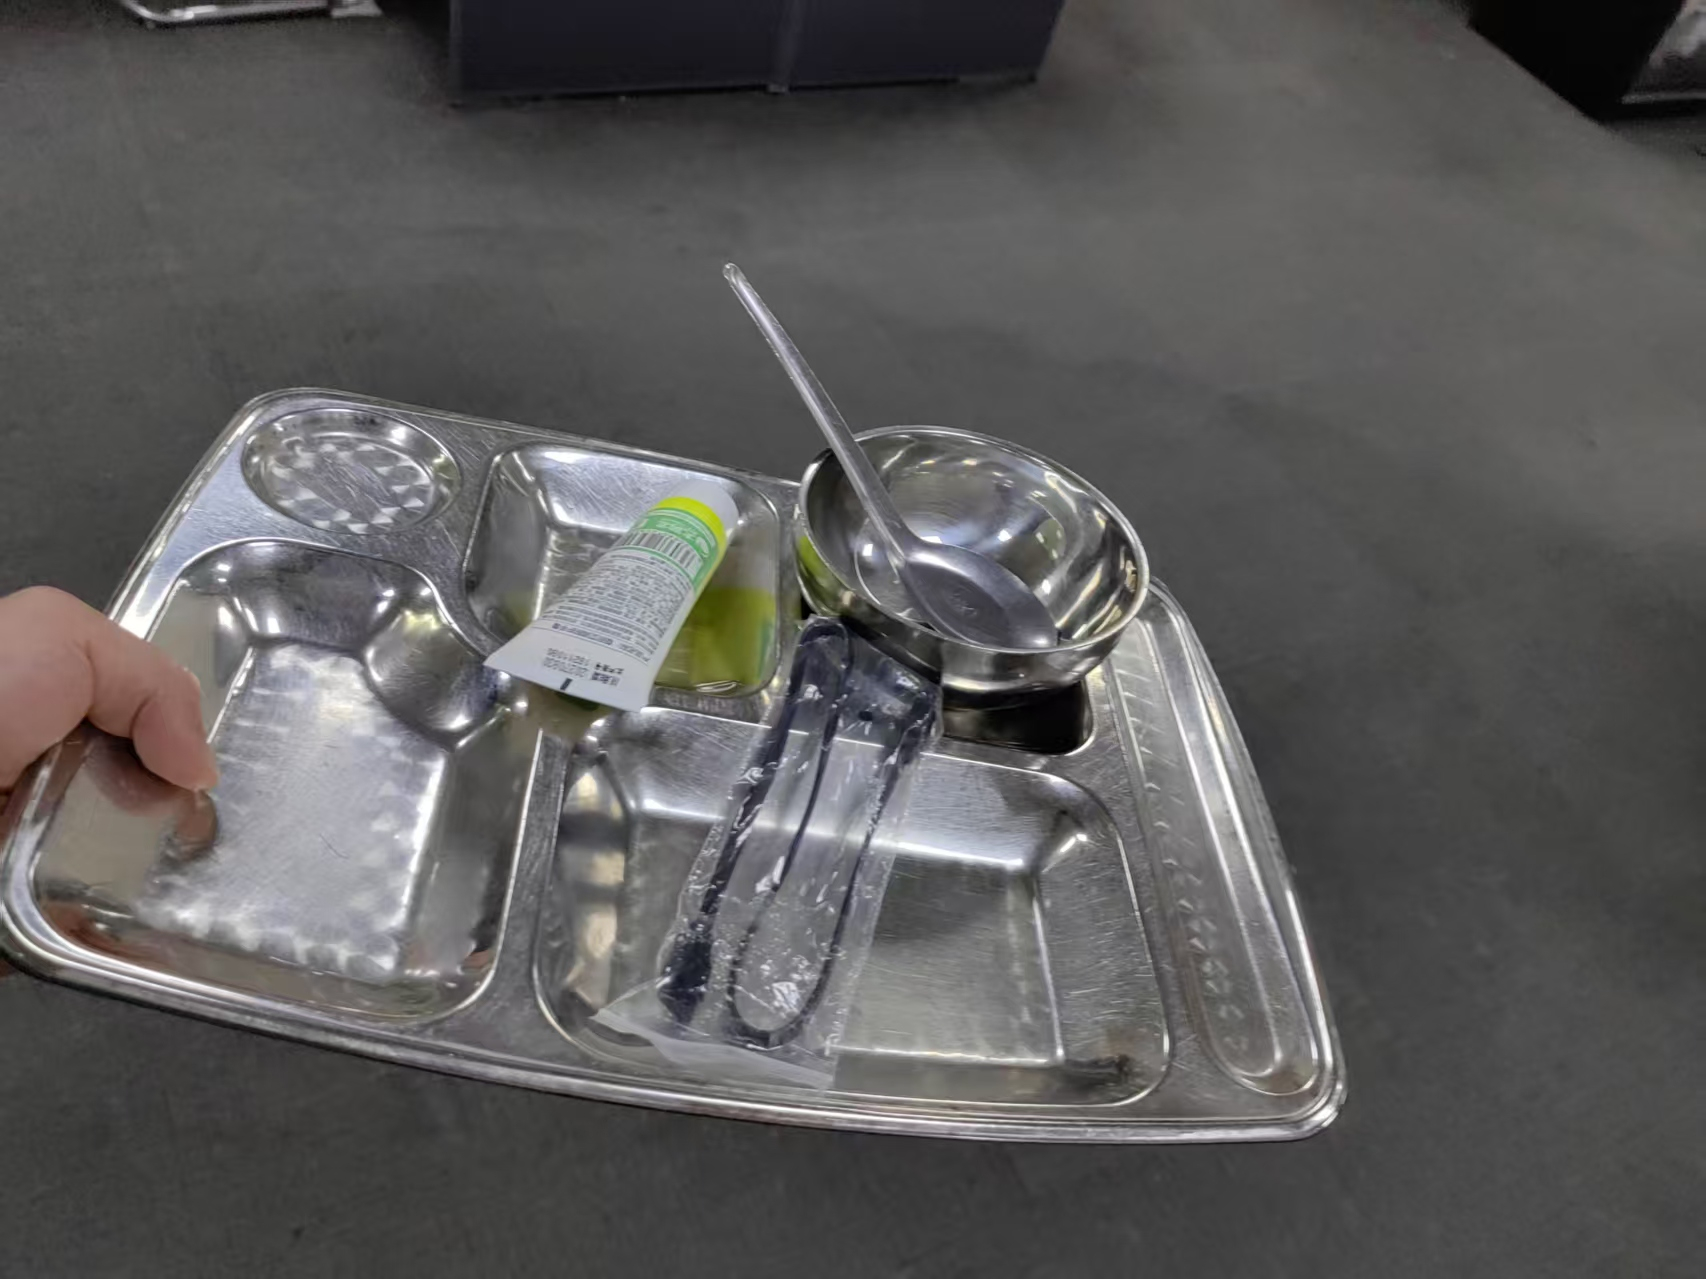moderate: (480, 477, 939, 1096)
plate: (3, 382, 1353, 1149)
